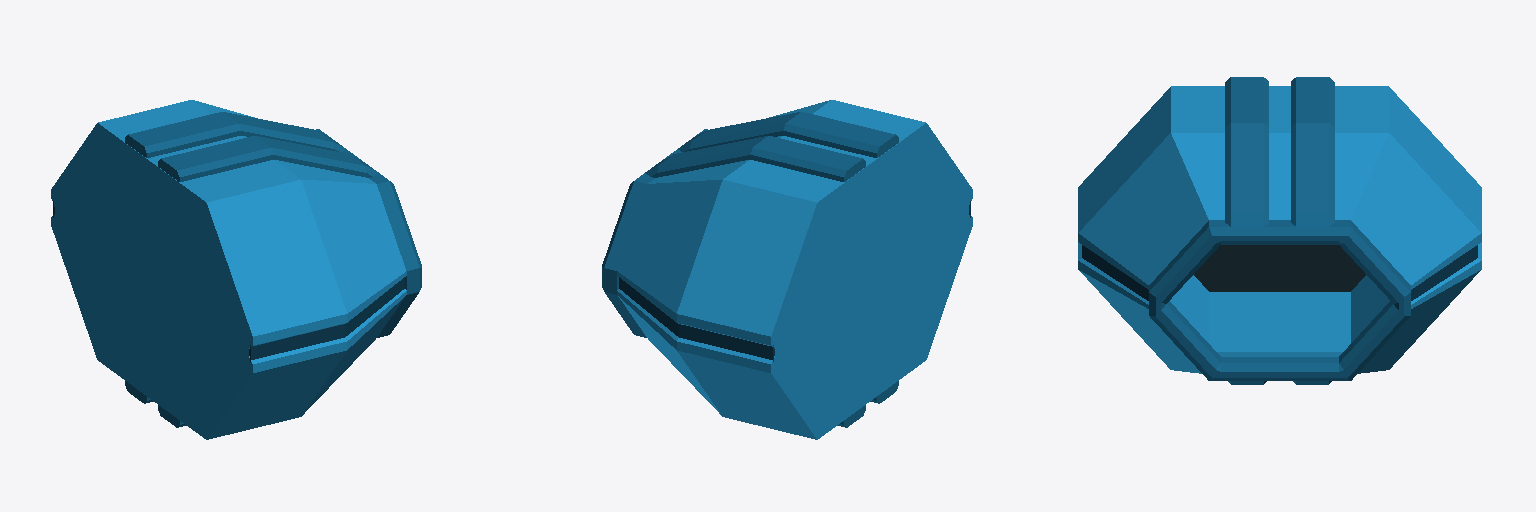
File: Spacestation_Propulsion_Hyperdrive_Rearmount_Medium.obj
3 views of the same model, side by side, from view 1: azimuth 30°, elevation 25°; view 2: azimuth 150°, elevation 25°; view 3: azimuth 270°, elevation 25° (orthographic).
Parts seen in each view (by area): view 1: object7, object6, object3; view 2: object7, object6, object5; view 3: object7, object6, object2, object3, object5.
Boxes of the visible parts, x1=… form: object7: x1=51, y1=100, x2=406, y2=439; object6: x1=125, y1=112, x2=421, y2=427; object3: x1=249, y1=277, x2=404, y2=361; object7: x1=617, y1=100, x2=972, y2=439; object6: x1=602, y1=112, x2=898, y2=427; object5: x1=619, y1=277, x2=774, y2=361; object7: x1=1078, y1=86, x2=1481, y2=373; object6: x1=1149, y1=77, x2=1410, y2=384; object2: x1=1194, y1=245, x2=1365, y2=291; object3: x1=1082, y1=245, x2=1148, y2=300; object5: x1=1411, y1=245, x2=1477, y2=300.
Size of the model in its own units: 1.1 by 1.3 by 1.85.